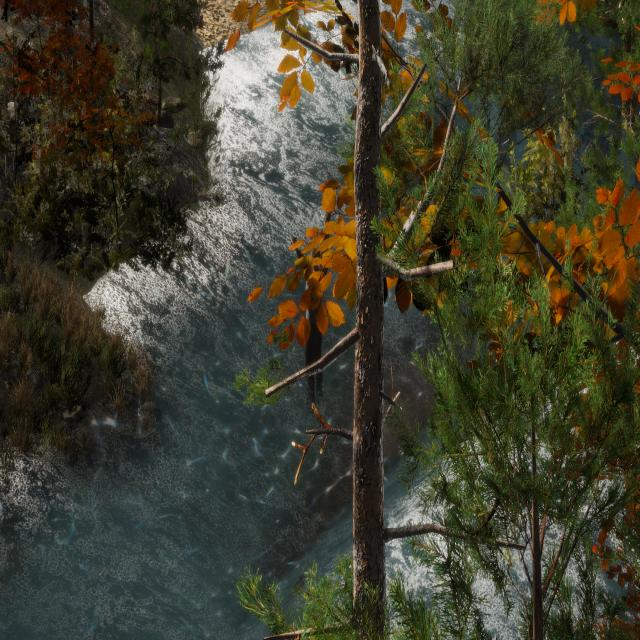Human: (292, 191, 336, 414)
